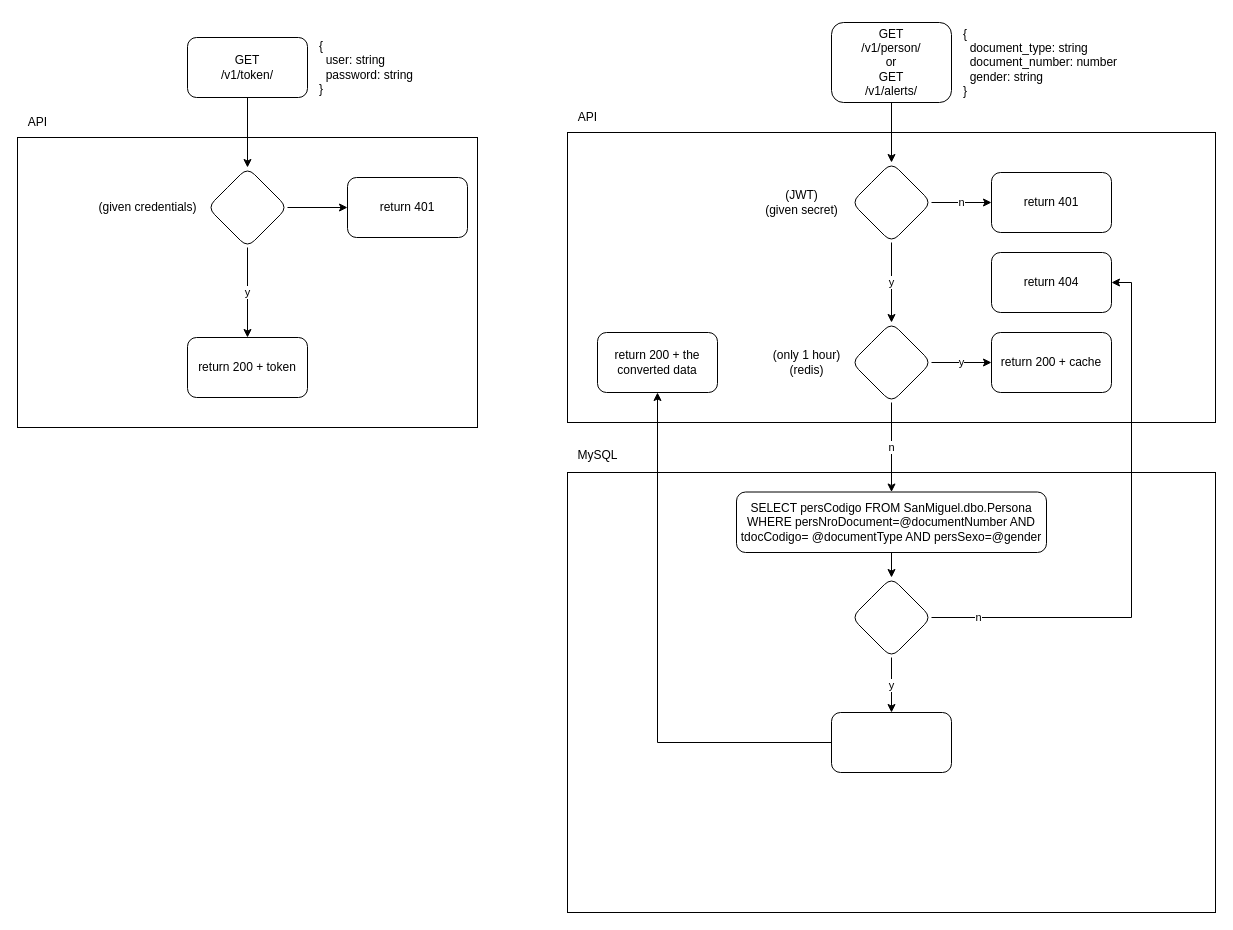
Some shapes in this 1233 by 930 pixel diagram are drawn without their labels. Here are the shapes that lost their labels. From the top down, the centre of each, then its label:
the point at 247,207: credentials ok?
the point at 891,202: auth?
the point at 891,362: cached?
the point at 891,617: find person ID?
the point at 891,742: Build all person data
